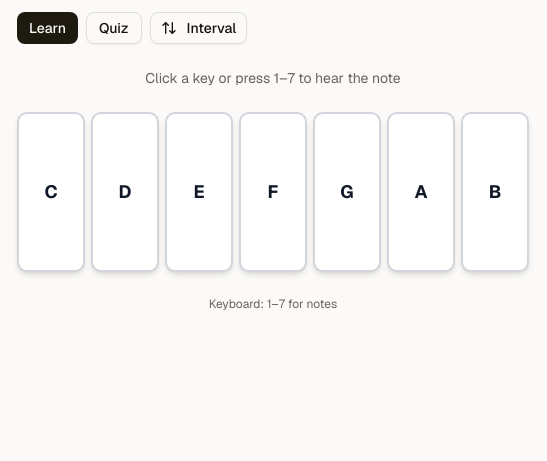
EarTrainer › quiz: Start button changes to Reset on click
This screenshot has width=547, height=461.
Click the button with test id "mode-quiz" at point(114, 28), box [86,12,142,44]
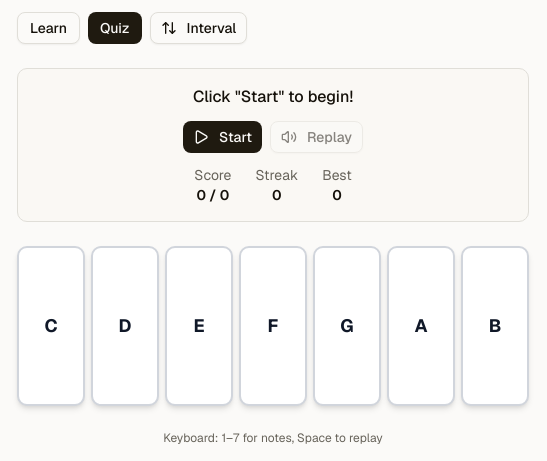
Result: the button with test id "start-btn" reads "Start"
Click the button with test id "start-btn" at point(223, 137), box [183,121,262,153]
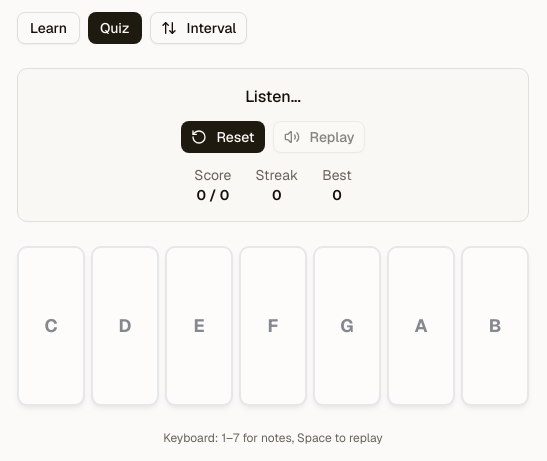
Result: the button with test id "start-btn" reads "Reset" at [180,121,264,153]
